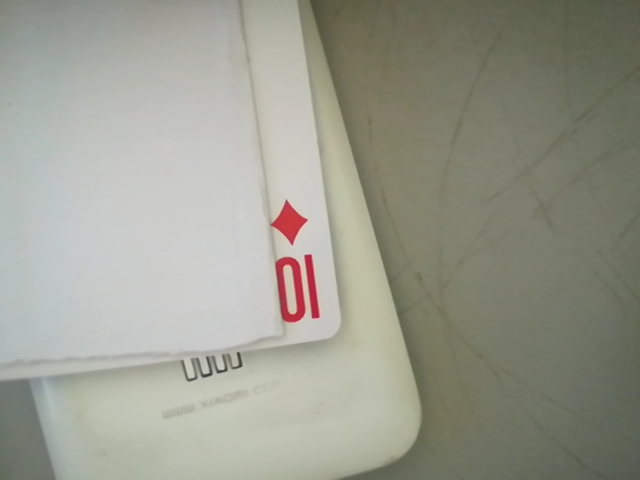fk 10: (259, 194, 335, 332)
